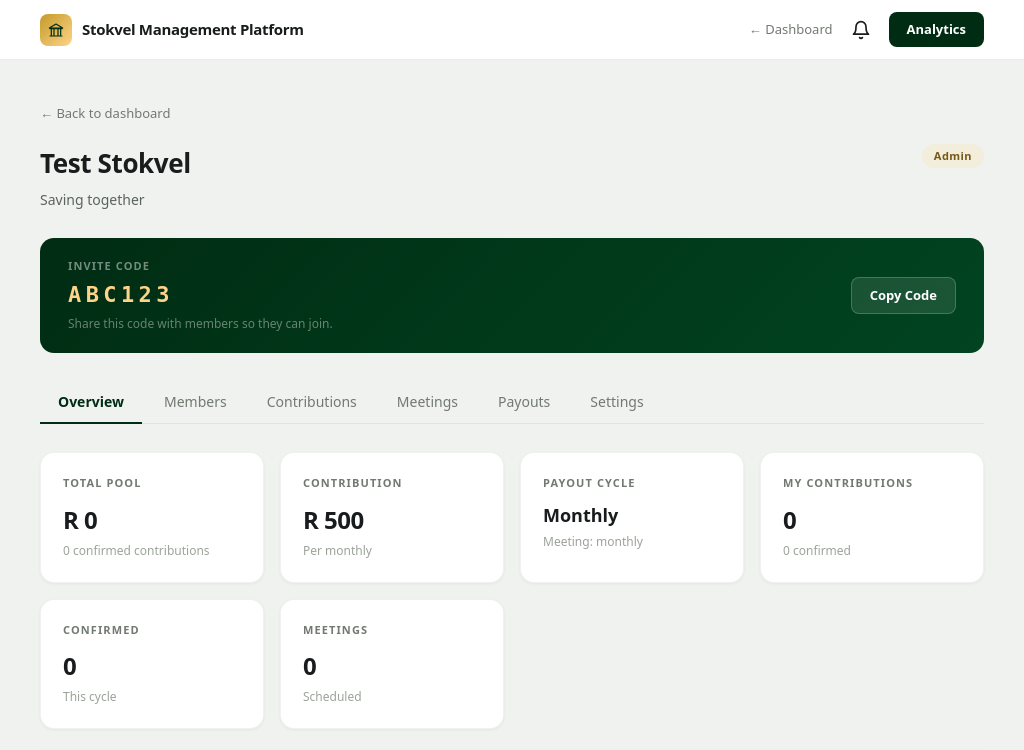
Test case: GroupDashboard › Tabs › clicking the settings tab shows the settings form (admin only)
This screenshot has width=1024, height=750.
Click the button "settings".
click(617, 402)  # box [572,381,662,424]
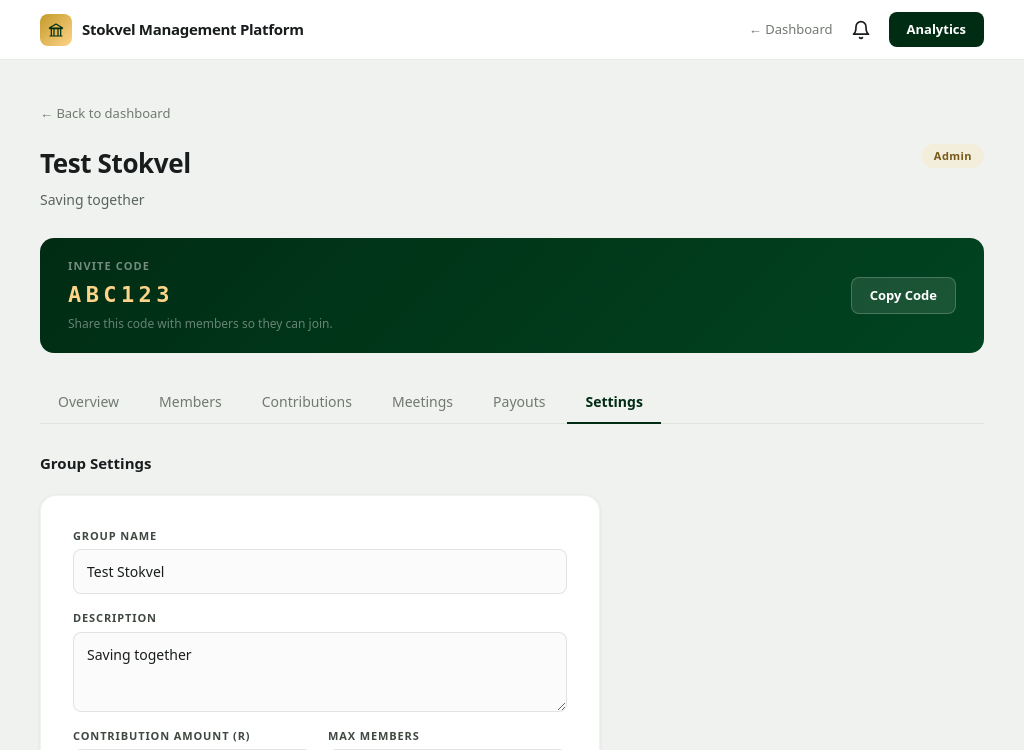
Check: the text "Group Settings" is shown, box [40,453,151,473]
